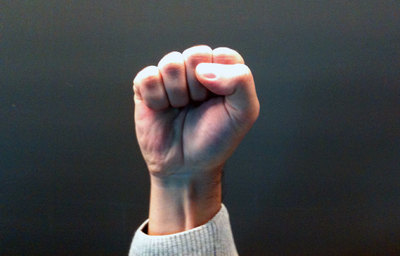closedhandfront: (124, 41, 268, 182)
